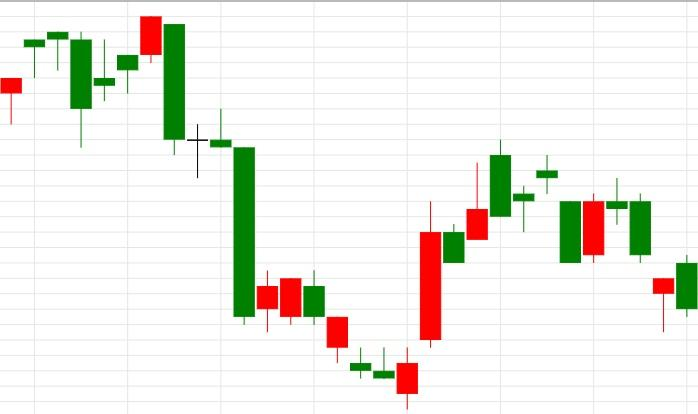bullish_engulfing_rise: (139, 16, 419, 410)
hammer_rise: (536, 155, 675, 333)
